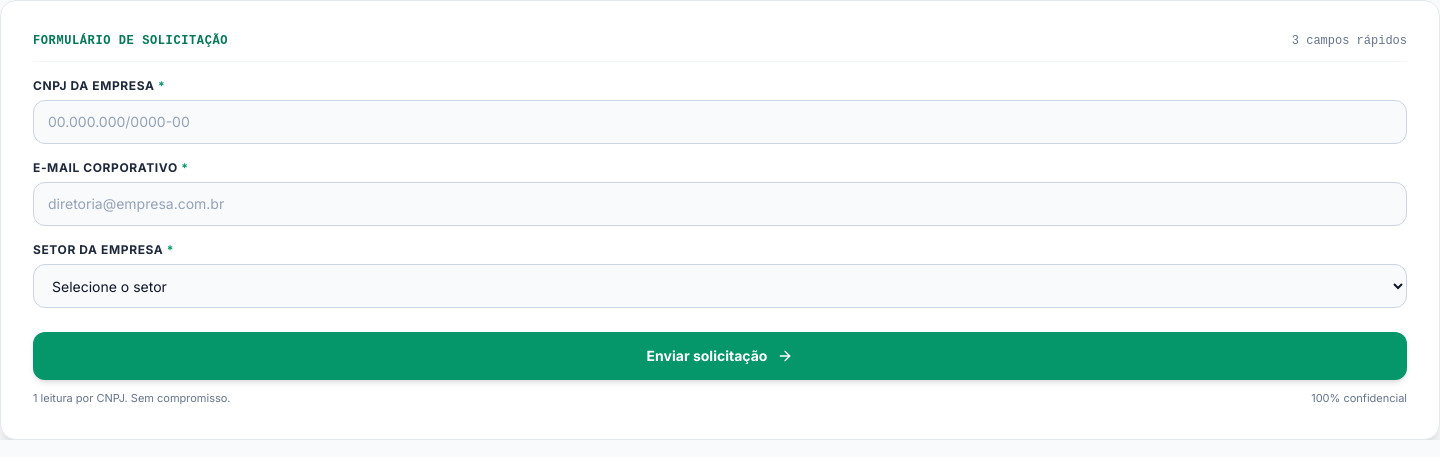
Test: Oferta Orbis LPF — Leitura Pré-Faturamento › realiza submissão com sucesso para CNPJ novo
Type "14.882.310/0001-91" into the field labelled "CNPJ da empresa *". click: coordinates (720, 122)
box: [33,100,1407,144]
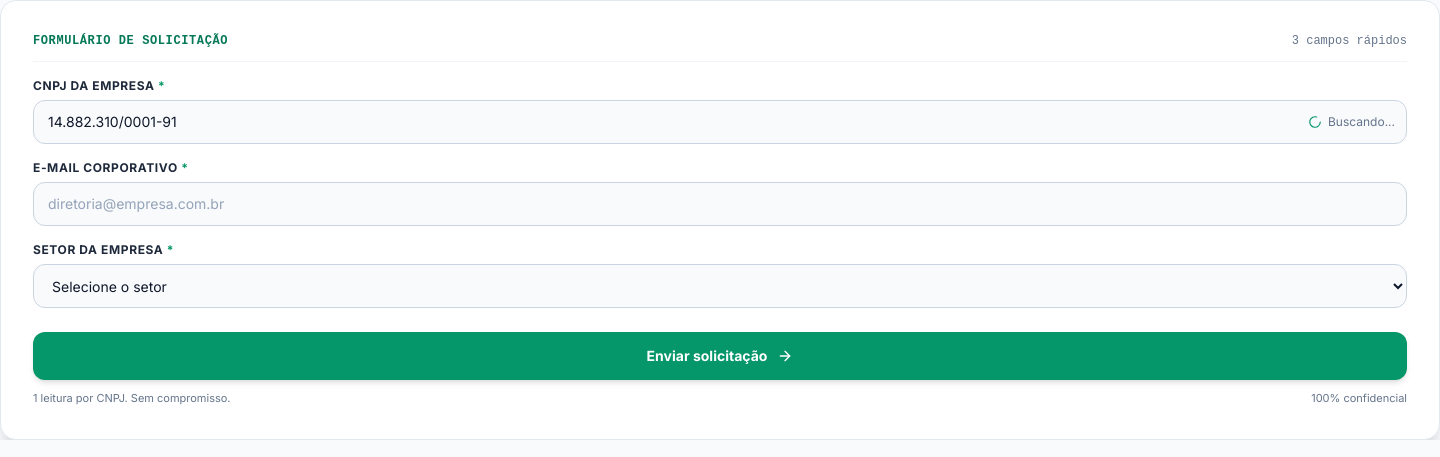
Type "export@industrianova.com.br" into the field labelled "E-mail corporativo *". click: coordinates (720, 204)
box: [33,182,1407,226]
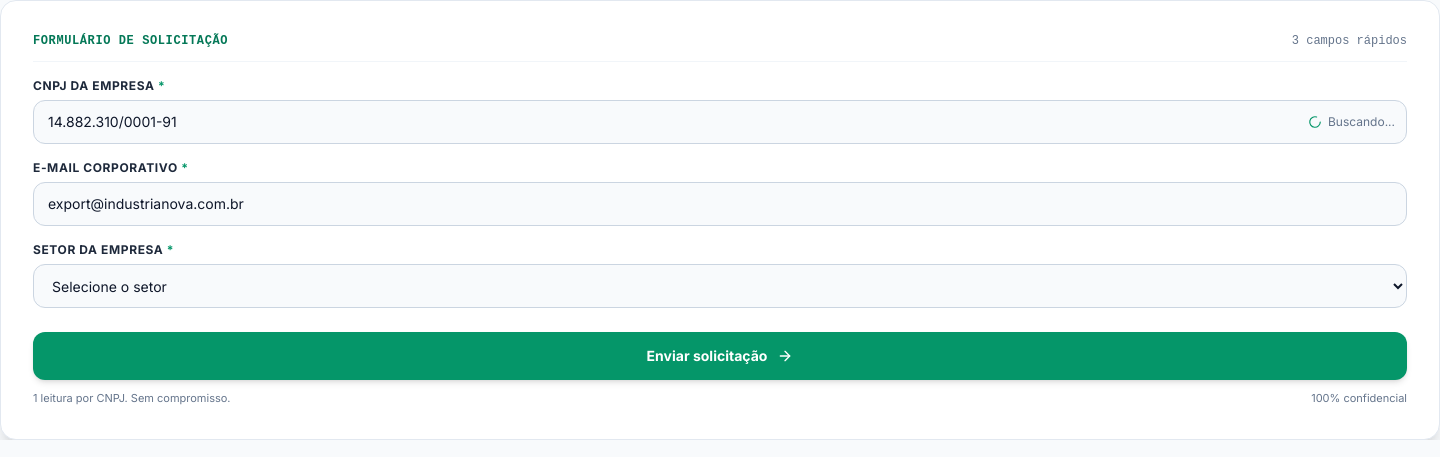
Select "Alumínio" in the dropdown labelled "Setor da empresa *". click: coordinates (720, 286)
box: [33,264,1407,308]
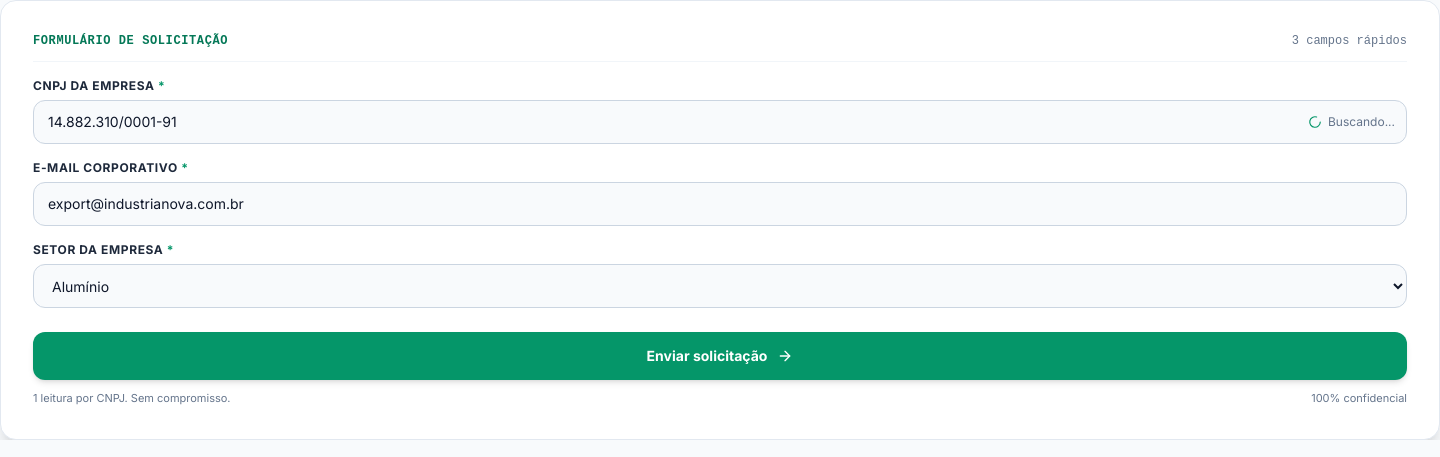
Click the button "Enviar solicitação". click: coordinates (720, 356)
box: [33,332,1407,380]
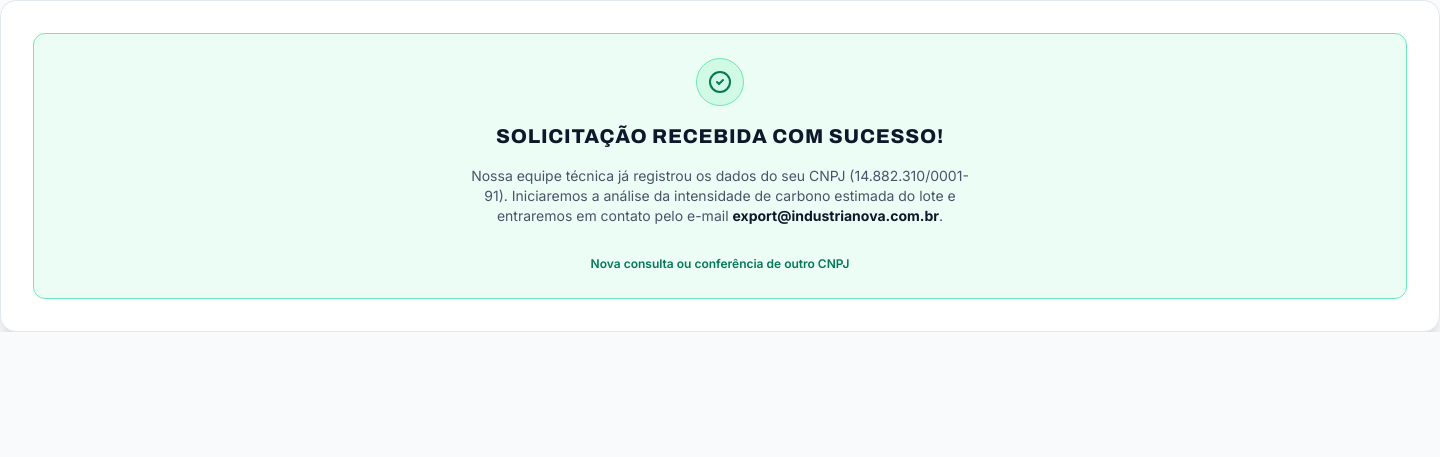
Expected: the heading "Solicitação Recebida com Sucesso!" is shown, [496,125,944,147]
